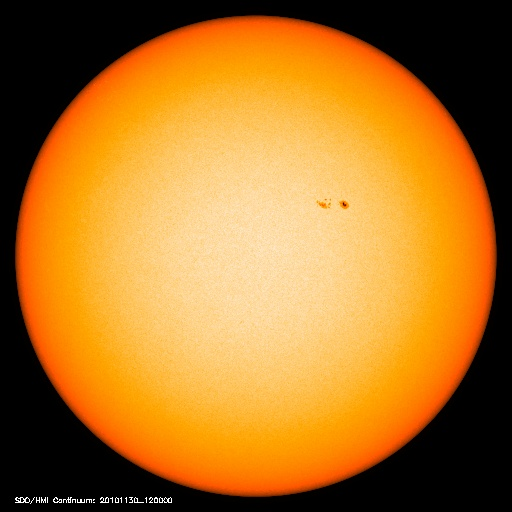sunspot: (304, 190, 357, 218)
